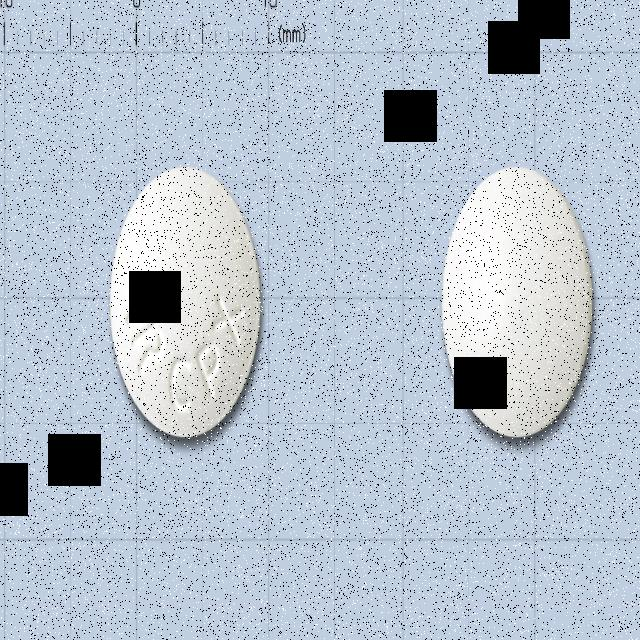Ciprofloxacin Tab- Mirae: (108, 162, 264, 443)
